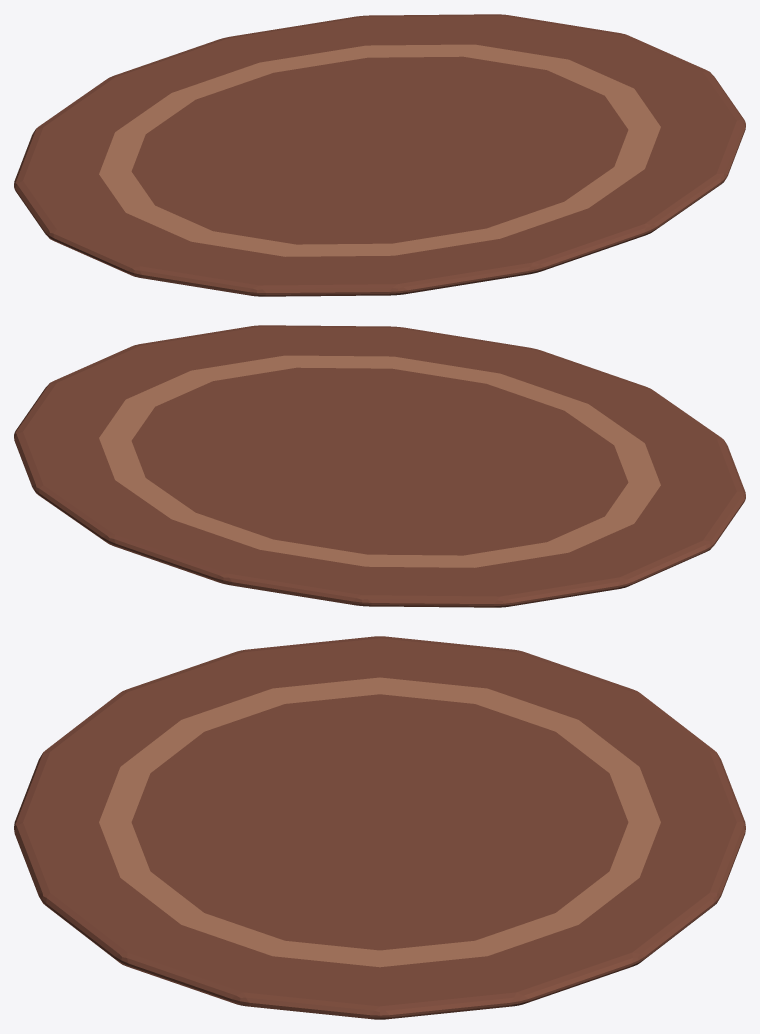
The model's file is Livingroom_Rug1.fbx.
The picture shows the model from 3 angles, top to bottom: view 1: azimuth 30°, elevation 25°; view 2: azimuth 150°, elevation 25°; view 3: azimuth 270°, elevation 25°; orthographic projection. The views are drawn at different scales.
Visible parts, largest first — view 1: Livingroom_Rug1.001, Livingroom_Rug1; view 2: Livingroom_Rug1.001, Livingroom_Rug1; view 3: Livingroom_Rug1.001, Livingroom_Rug1.
Part boxes in pixels (bbox=[...]): Livingroom_Rug1.001: bbox=[14, 14, 745, 296]; Livingroom_Rug1: bbox=[99, 44, 660, 256]; Livingroom_Rug1.001: bbox=[14, 325, 745, 607]; Livingroom_Rug1: bbox=[99, 355, 660, 567]; Livingroom_Rug1.001: bbox=[14, 636, 745, 1019]; Livingroom_Rug1: bbox=[99, 677, 660, 967].
Size of the model in its own units: 173 by 2.94 by 212.
